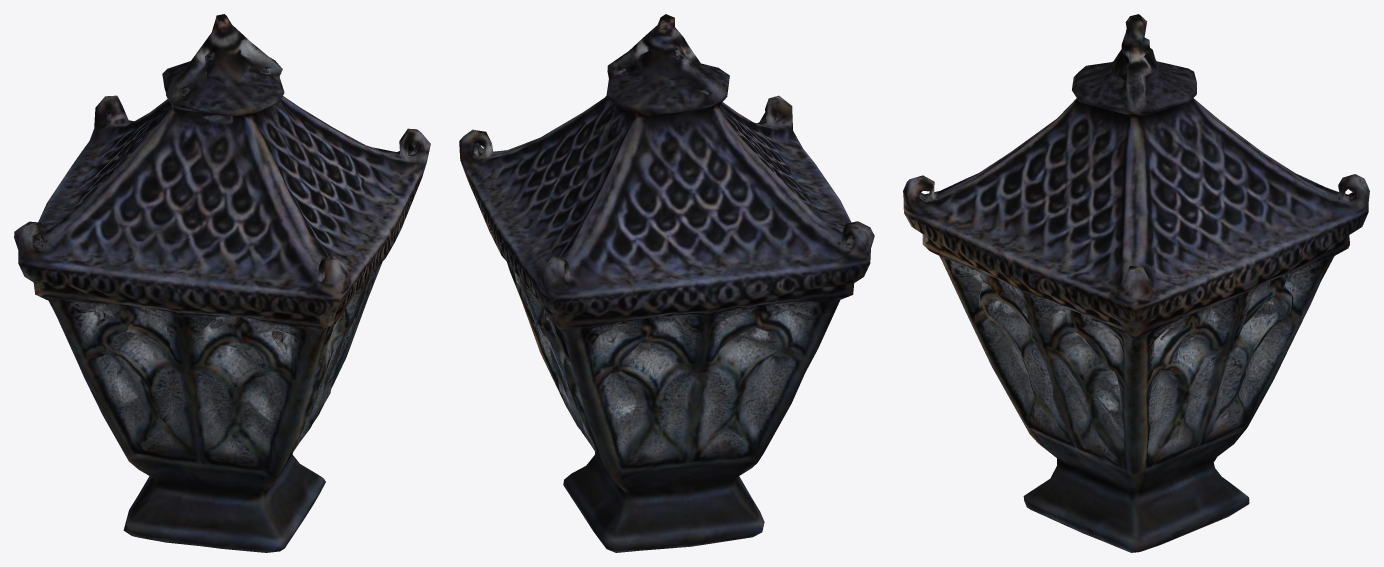
The model's file is b653489d5322_Tapered_rooftop_lan.fbx.
3 views of the same model, side by side, from view 1: azimuth 30°, elevation 25°; view 2: azimuth 150°, elevation 25°; view 3: azimuth 270°, elevation 25° (orthographic).
Visible parts, largest first — view 1: mesh; view 2: mesh; view 3: mesh.
Part boxes in pixels (bbox=[...]): mesh: bbox=[14, 14, 430, 552]; mesh: bbox=[459, 14, 874, 552]; mesh: bbox=[903, 14, 1369, 552].
Bounding box in the file's own units: 85.27 × 100 × 85.29.
